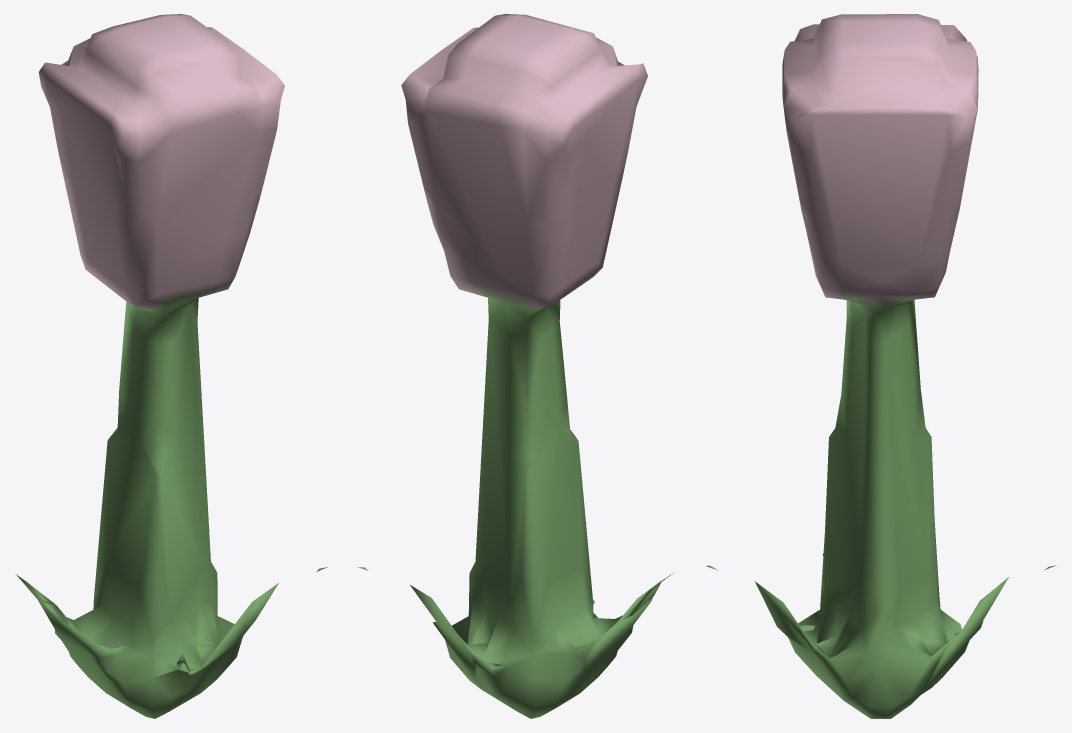
The model's file is flower_pink.glb.
3 views of the same model, side by side, from view 1: azimuth 30°, elevation 25°; view 2: azimuth 150°, elevation 25°; view 3: azimuth 270°, elevation 25° (orthographic).
Visible parts, largest first — view 1: flower_redA; view 2: flower_redA; view 3: flower_redA.
Boxes of the visible parts, left/top/right/bottom form: flower_redA: left=16, top=14, right=327, bottom=718; flower_redA: left=358, top=14, right=673, bottom=718; flower_redA: left=705, top=14, right=1056, bottom=718.
Size of the model in its own units: 0.1029 by 0.2927 by 0.1396.
